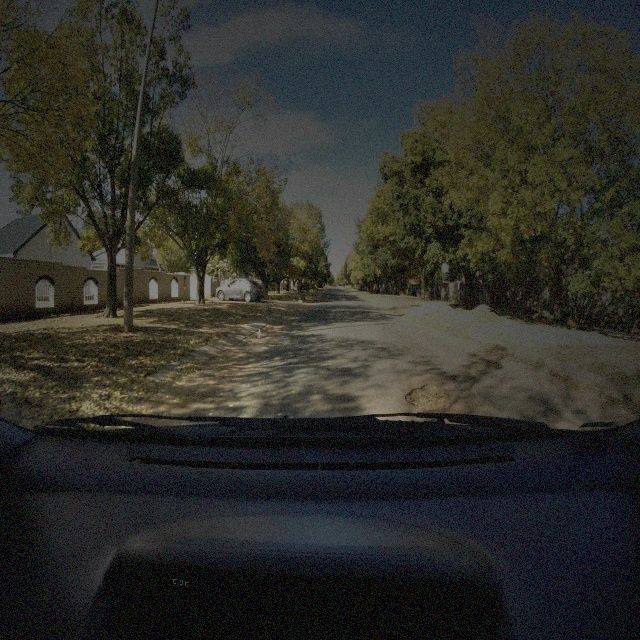pothole: (402, 378, 451, 412)
